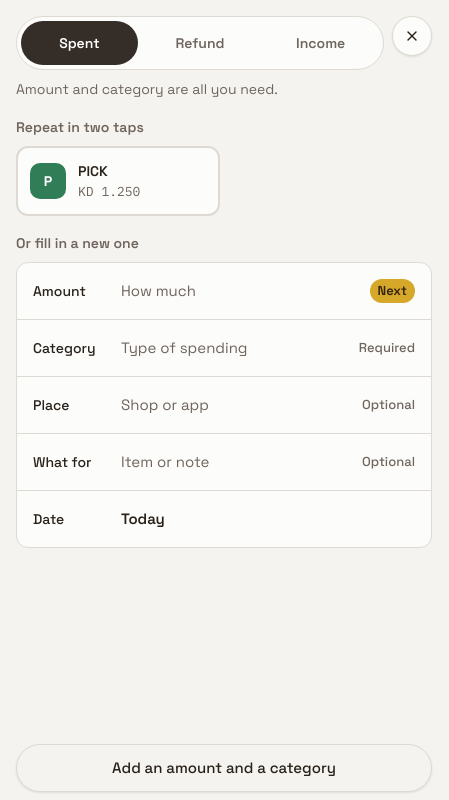
Test: /log save moment (MOB-R70 E7) › a stored date from an earlier day still bursts
Click the button "P PICK KD 1.250".
click(118, 181)  # box [16,146,220,216]
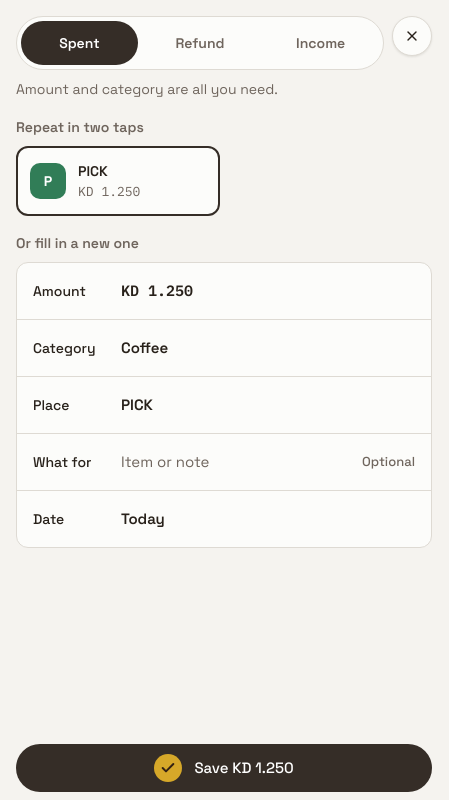
Click the button "Save KD 1.250".
click(224, 768)  # box [16,744,432,792]
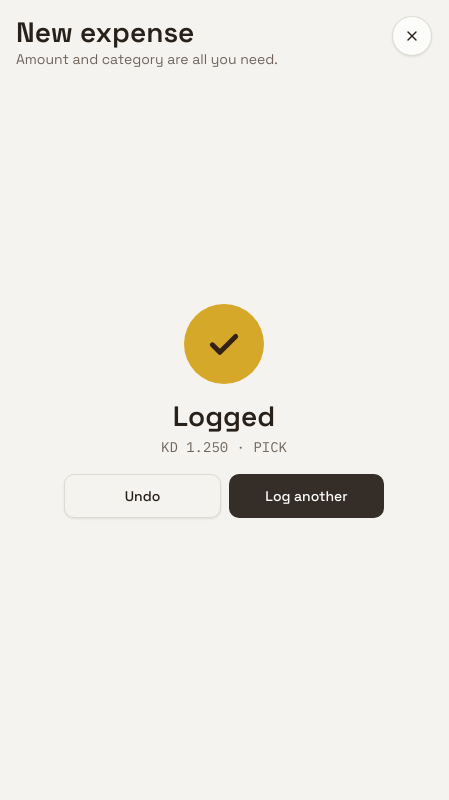
Result: the element with test id "log-burst" is shown at [184,304,264,384]
